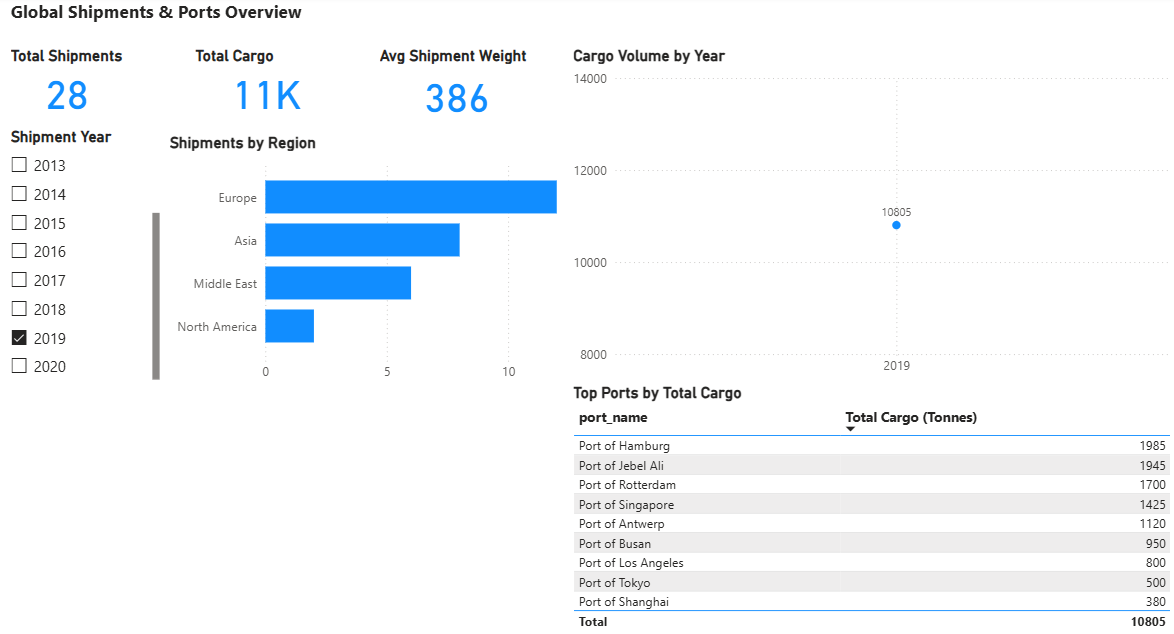

The dashboard page shown, as its layout file describes it:
{"tool":"powerbi","page":{"name":"Page 1","canvas":[1280,720],"ordinal":0},"visuals":[{"type":"advanceCardE03760C5AB684758B56AA29F9E6C257B","title":"Total Shipments","fields":{"mainMeasure":["ports_data.Total Shipments"]},"box":[16.2,54.7,131.2,87.4],"z":0},{"type":"advanceCardE03760C5AB684758B56AA29F9E6C257B","title":"Total Cargo","fields":{"mainMeasure":["ports_data.Total Cargo (Tonnes)"]},"box":[215.4,54.7,163.5,85.8],"z":1000},{"type":"advanceCardE03760C5AB684758B56AA29F9E6C257B","title":"Avg Shipment Weight","fields":{"mainMeasure":["ports_data.Avg Shipment Weight"]},"box":[414.5,54.7,176.5,93.9],"z":2000},{"type":"clusteredBarChart","title":"Shipments by Region","fields":{"Category":["ports_data.region"],"Y":["ports_data.Total Shipments"]},"box":[187.8,149,435.6,276.9],"z":3000},{"type":"lineChart","title":"Cargo Volume by Year","fields":{"Category":["shipments.shipment_year"],"Y":["ports_data.Total Cargo (Tonnes)"]},"box":[623.4,55.1,655.8,364.3],"z":4000},{"type":"tableEx","title":"Top Ports by Total Cargo","fields":{"Values":["ports_data.port_name","ports_data.Total Cargo (Tonnes)"]},"box":[623.4,419.4,655.8,301.2],"z":5000},{"type":"listSlicer","title":"Shipment Year","fields":{"Values":["shipments.shipment_year"]},"box":[16.2,142.5,171.6,276.9],"z":6000},{"type":"textbox","box":[16.2,0,398.3,58.3],"z":7000}]}

Visuals, with their boxes on the page's 1280x720 design canvas (x1, y1, x2, y2). These are canvas units, not pixel positions in the 1174x634 screenshot, which may show the page scaled, cropped or inside an application window:
"Total Shipments" advanceCardE03760C5AB684758B56AA29F9E6C257B: box(16, 55, 147, 142)
"Total Cargo" advanceCardE03760C5AB684758B56AA29F9E6C257B: box(215, 55, 379, 140)
"Avg Shipment Weight" advanceCardE03760C5AB684758B56AA29F9E6C257B: box(414, 55, 591, 149)
"Shipments by Region" clusteredBarChart: box(188, 149, 623, 426)
"Cargo Volume by Year" lineChart: box(623, 55, 1279, 419)
"Top Ports by Total Cargo" tableEx: box(623, 419, 1279, 721)
"Shipment Year" listSlicer: box(16, 142, 188, 419)
textbox: box(16, 0, 414, 58)
